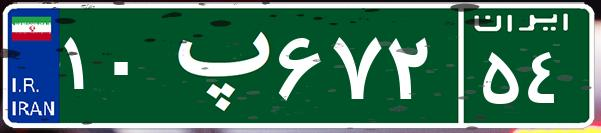0: (110, 28, 158, 105)
1: (57, 26, 110, 107)
2: (385, 28, 445, 110)
4: (525, 38, 570, 115)
5: (475, 38, 525, 113)
6: (273, 28, 330, 110)
7: (330, 28, 385, 110)
پ: (158, 15, 273, 115)
